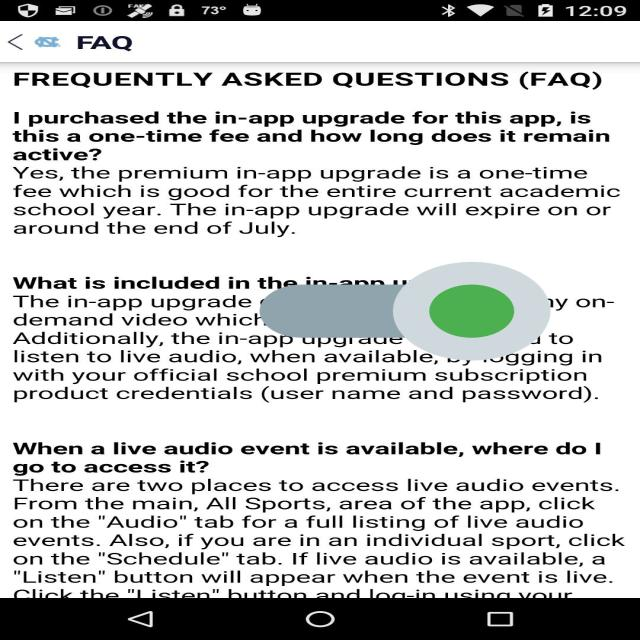social proof: (260, 220, 550, 402)
